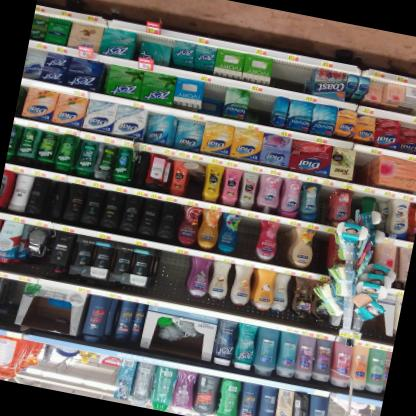empty_space: (155, 248, 189, 295), (274, 55, 309, 92), (235, 214, 257, 257), (0, 278, 22, 320), (246, 89, 270, 123), (311, 229, 331, 268), (356, 151, 378, 180), (279, 222, 295, 258)
